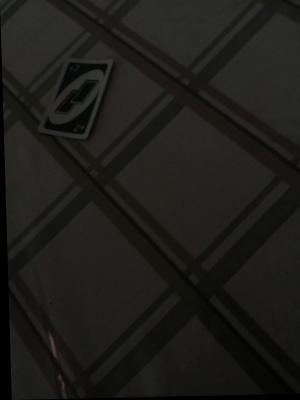green: (65, 70, 88, 127)
